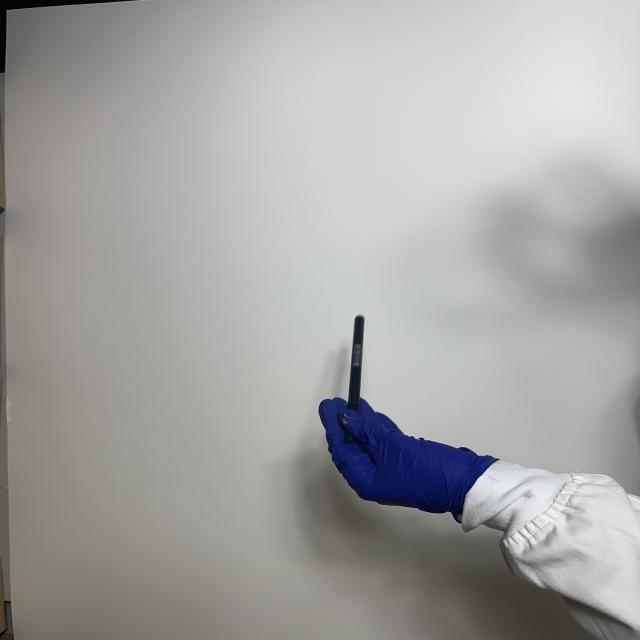gloves_contaminated: (319, 398, 496, 519)
